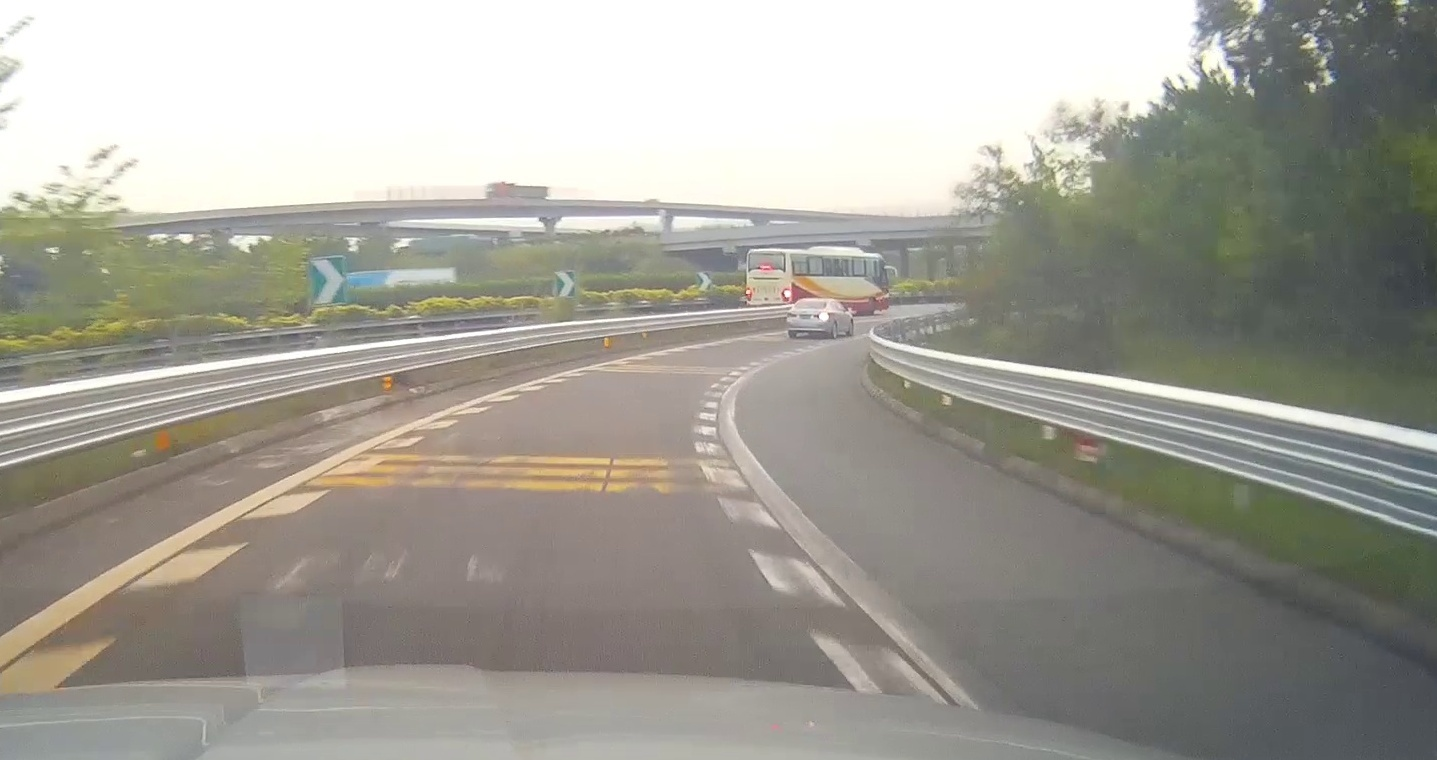L_light: (786, 312, 797, 318)
R_light: (813, 312, 829, 320)
T_light: (810, 299, 819, 302)
day-right: (786, 298, 833, 340)
